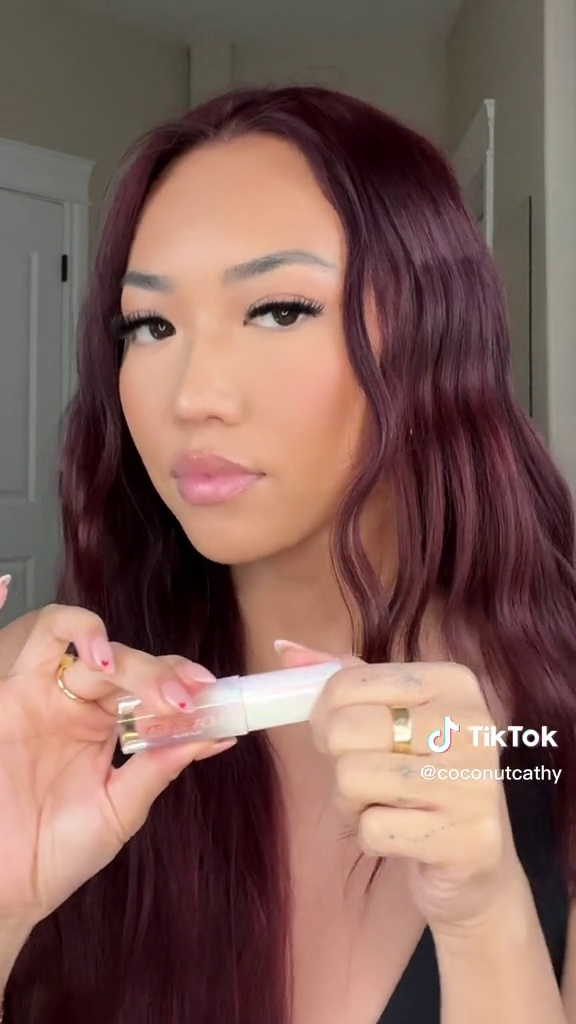train' :'yolo_data/train/images',: (120, 654, 370, 756)
